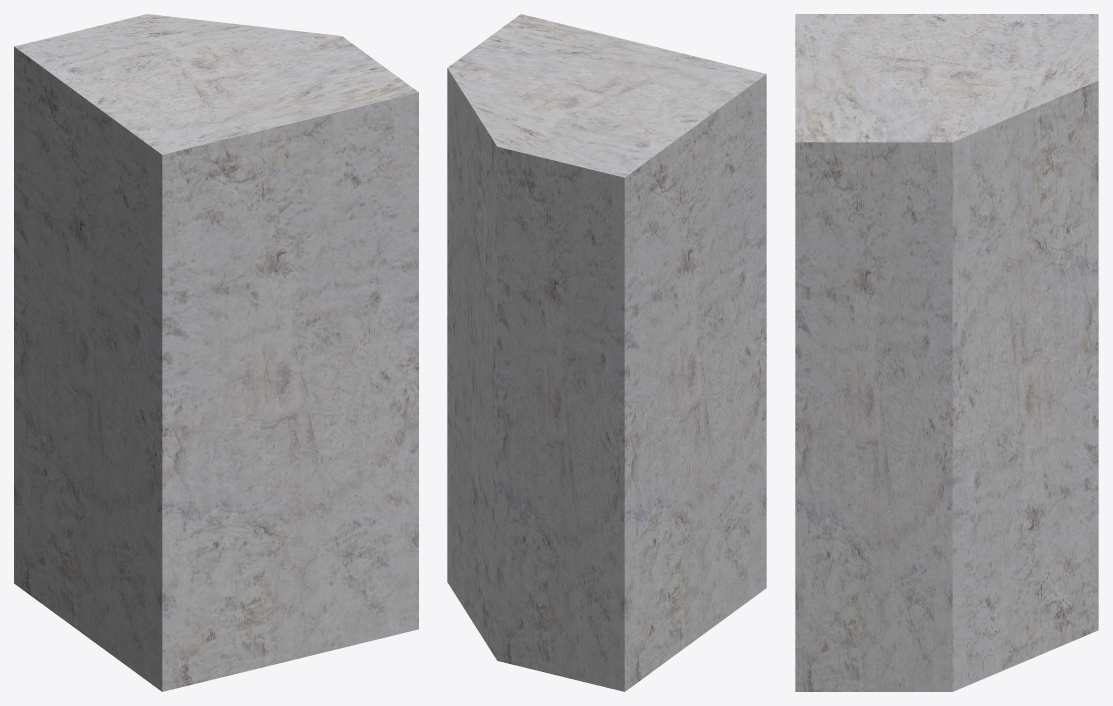
The model's file is StoneCorner1.fbx.
3 views of the same model, side by side, from view 1: azimuth 30°, elevation 25°; view 2: azimuth 150°, elevation 25°; view 3: azimuth 270°, elevation 25° (orthographic). The views are drawn at different scales.
Parts seen in each view (by area): view 1: Cube.001; view 2: Cube.001; view 3: Cube.001.
Part boxes in pixels (left/top/right/bottom): Cube.001: left=14, top=14, right=418, bottom=691; Cube.001: left=447, top=14, right=766, bottom=691; Cube.001: left=795, top=14, right=1098, bottom=691.
Size of the model in its own units: 200 by 400 by 200.
